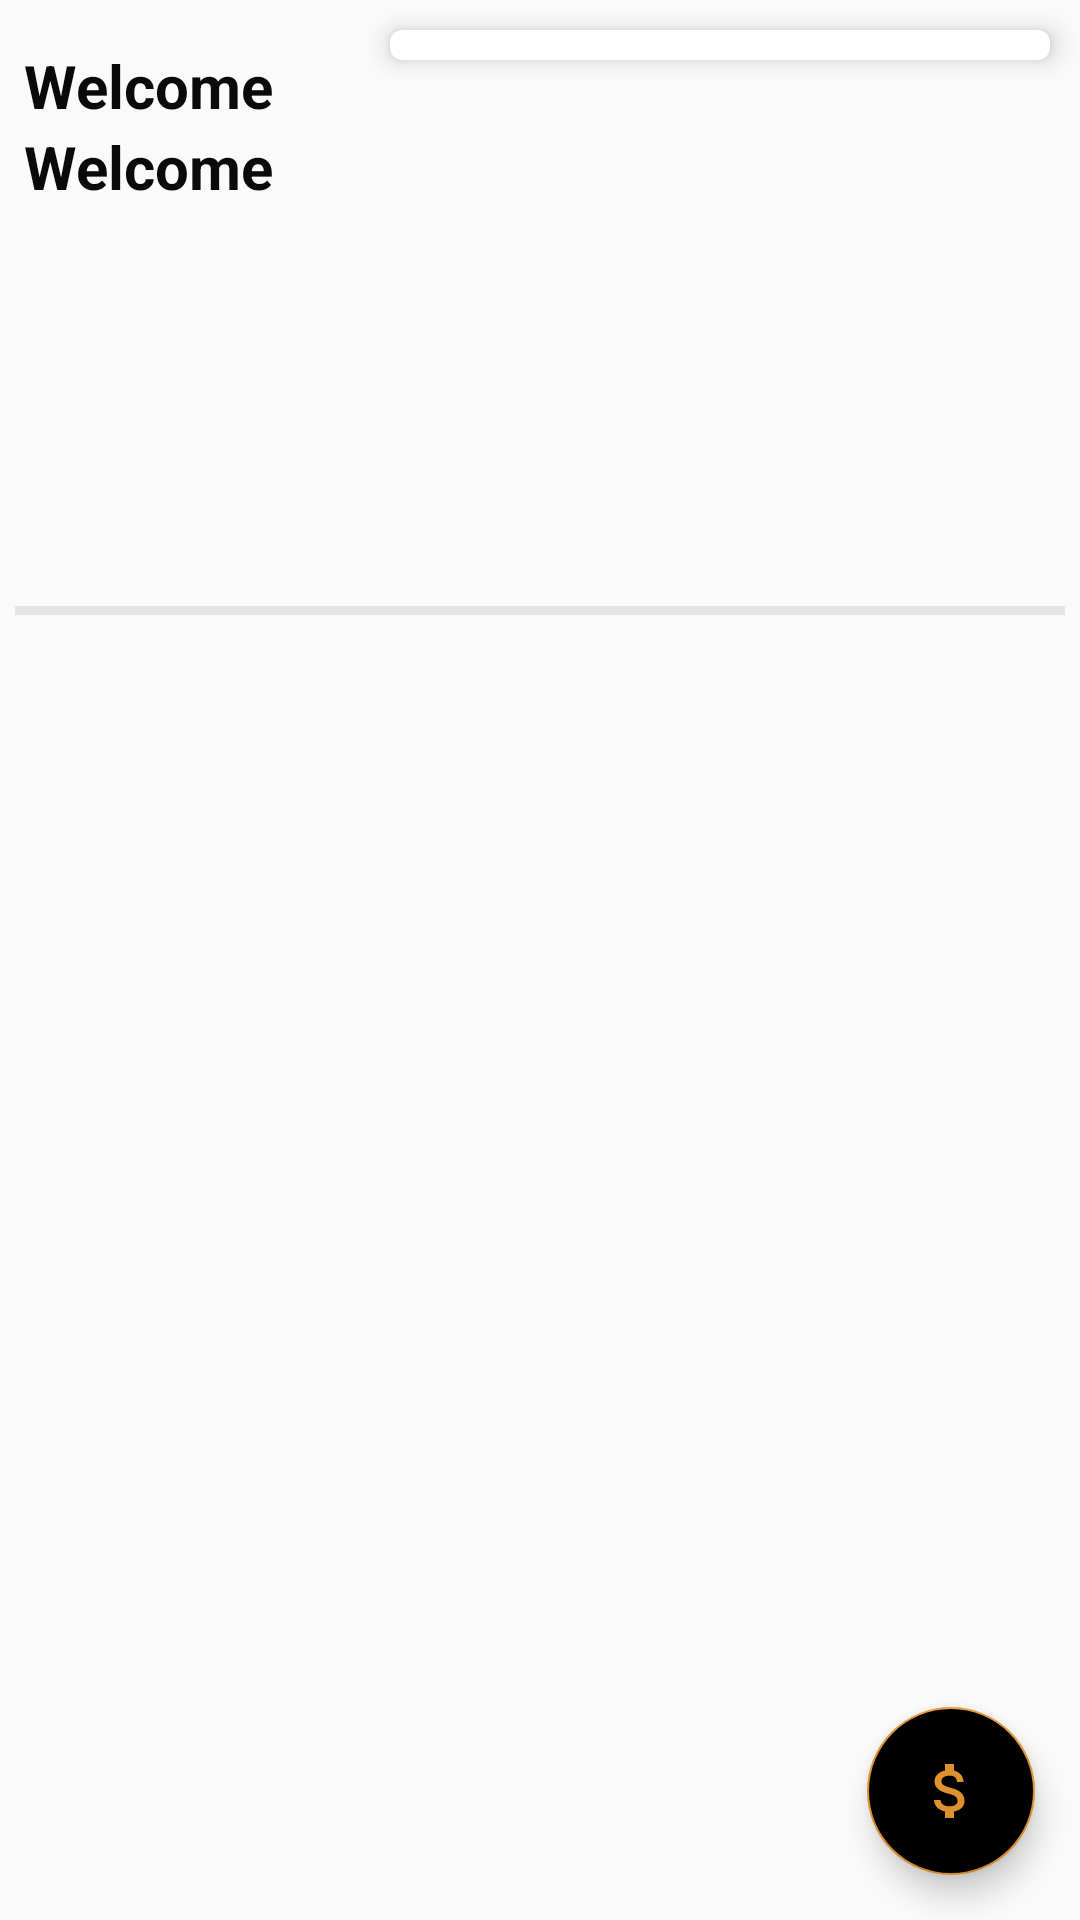

Icon click points for this 1080w x 1920h phone screenshot, format (x=x, y=y):
money: (x=951, y=1791)
